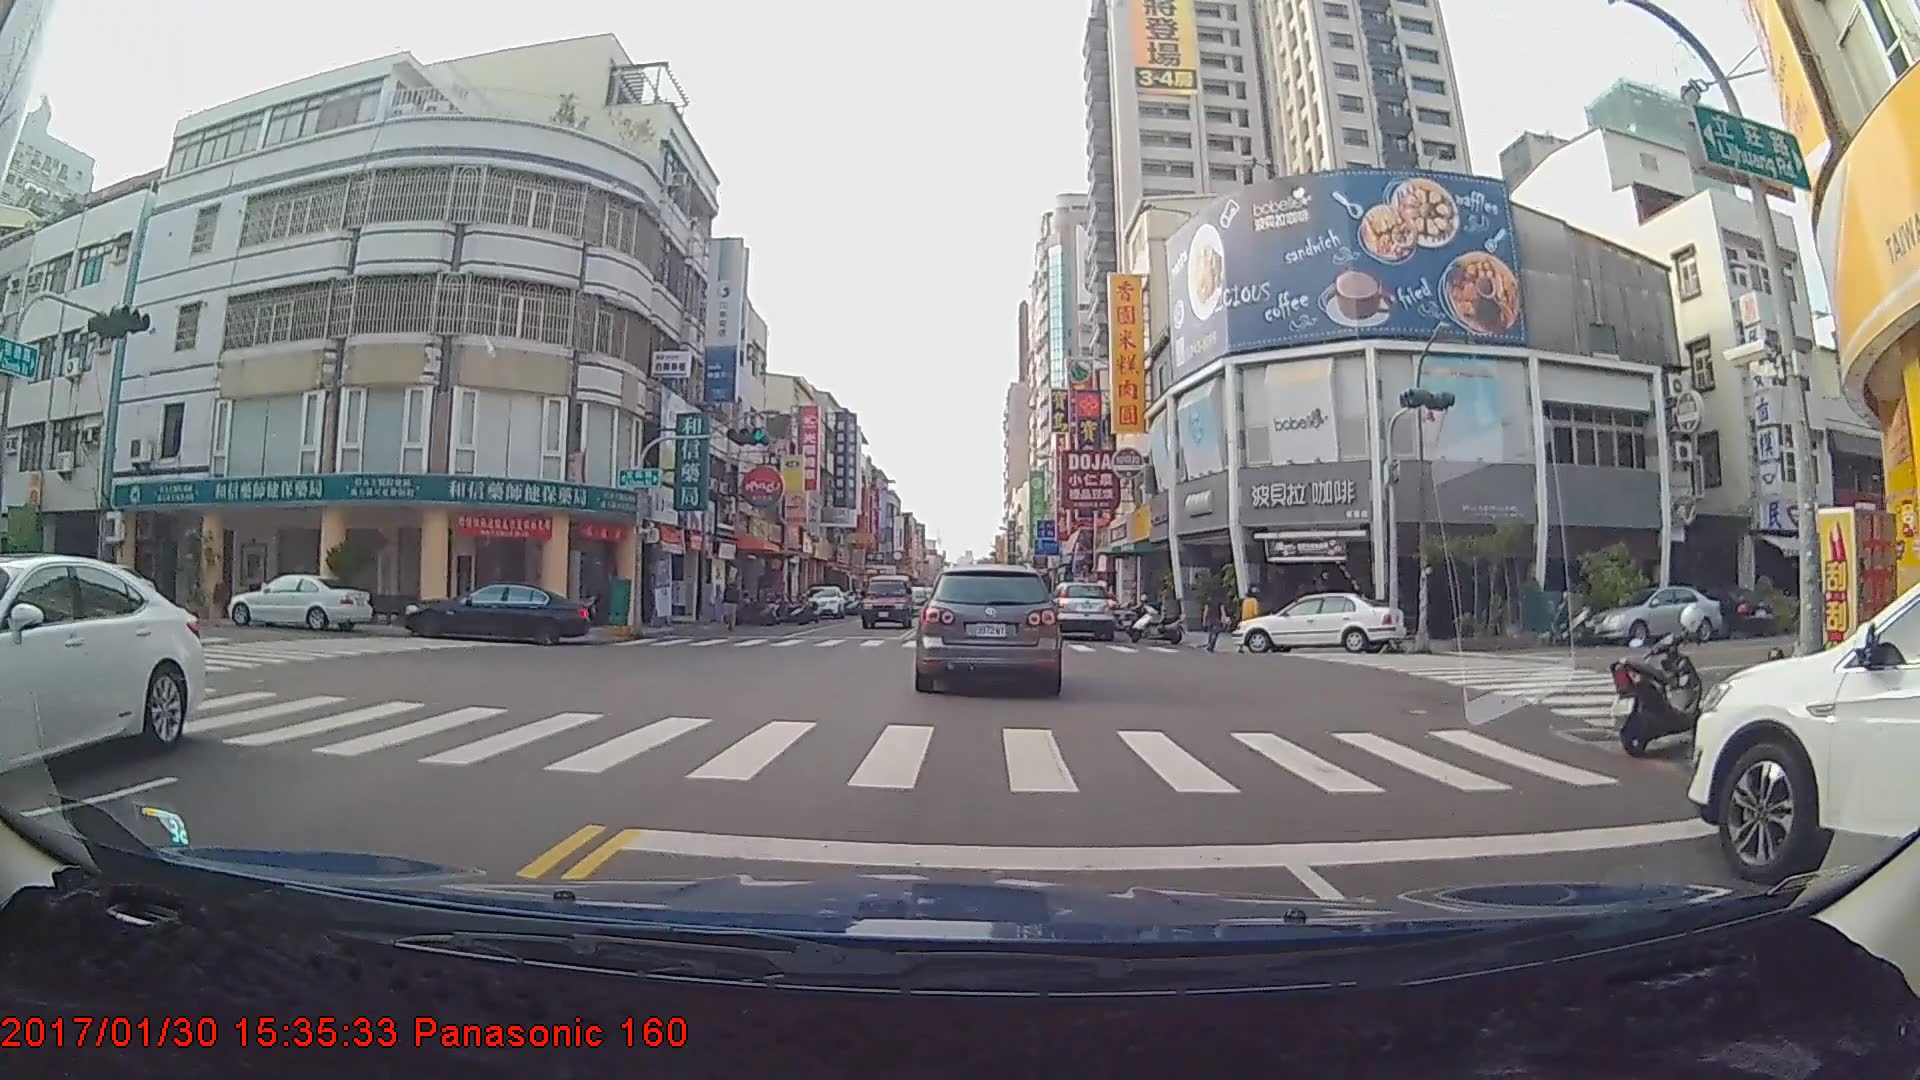pedestrian: (1201, 586, 1230, 652), (1240, 586, 1262, 650), (721, 577, 741, 636)
vehicle: (1689, 544, 1919, 950), (0, 548, 203, 810), (918, 560, 1060, 692), (397, 576, 589, 640), (1231, 590, 1404, 654), (230, 573, 373, 633), (1585, 583, 1719, 646), (1042, 579, 1114, 642), (858, 573, 912, 629), (797, 583, 844, 617)
